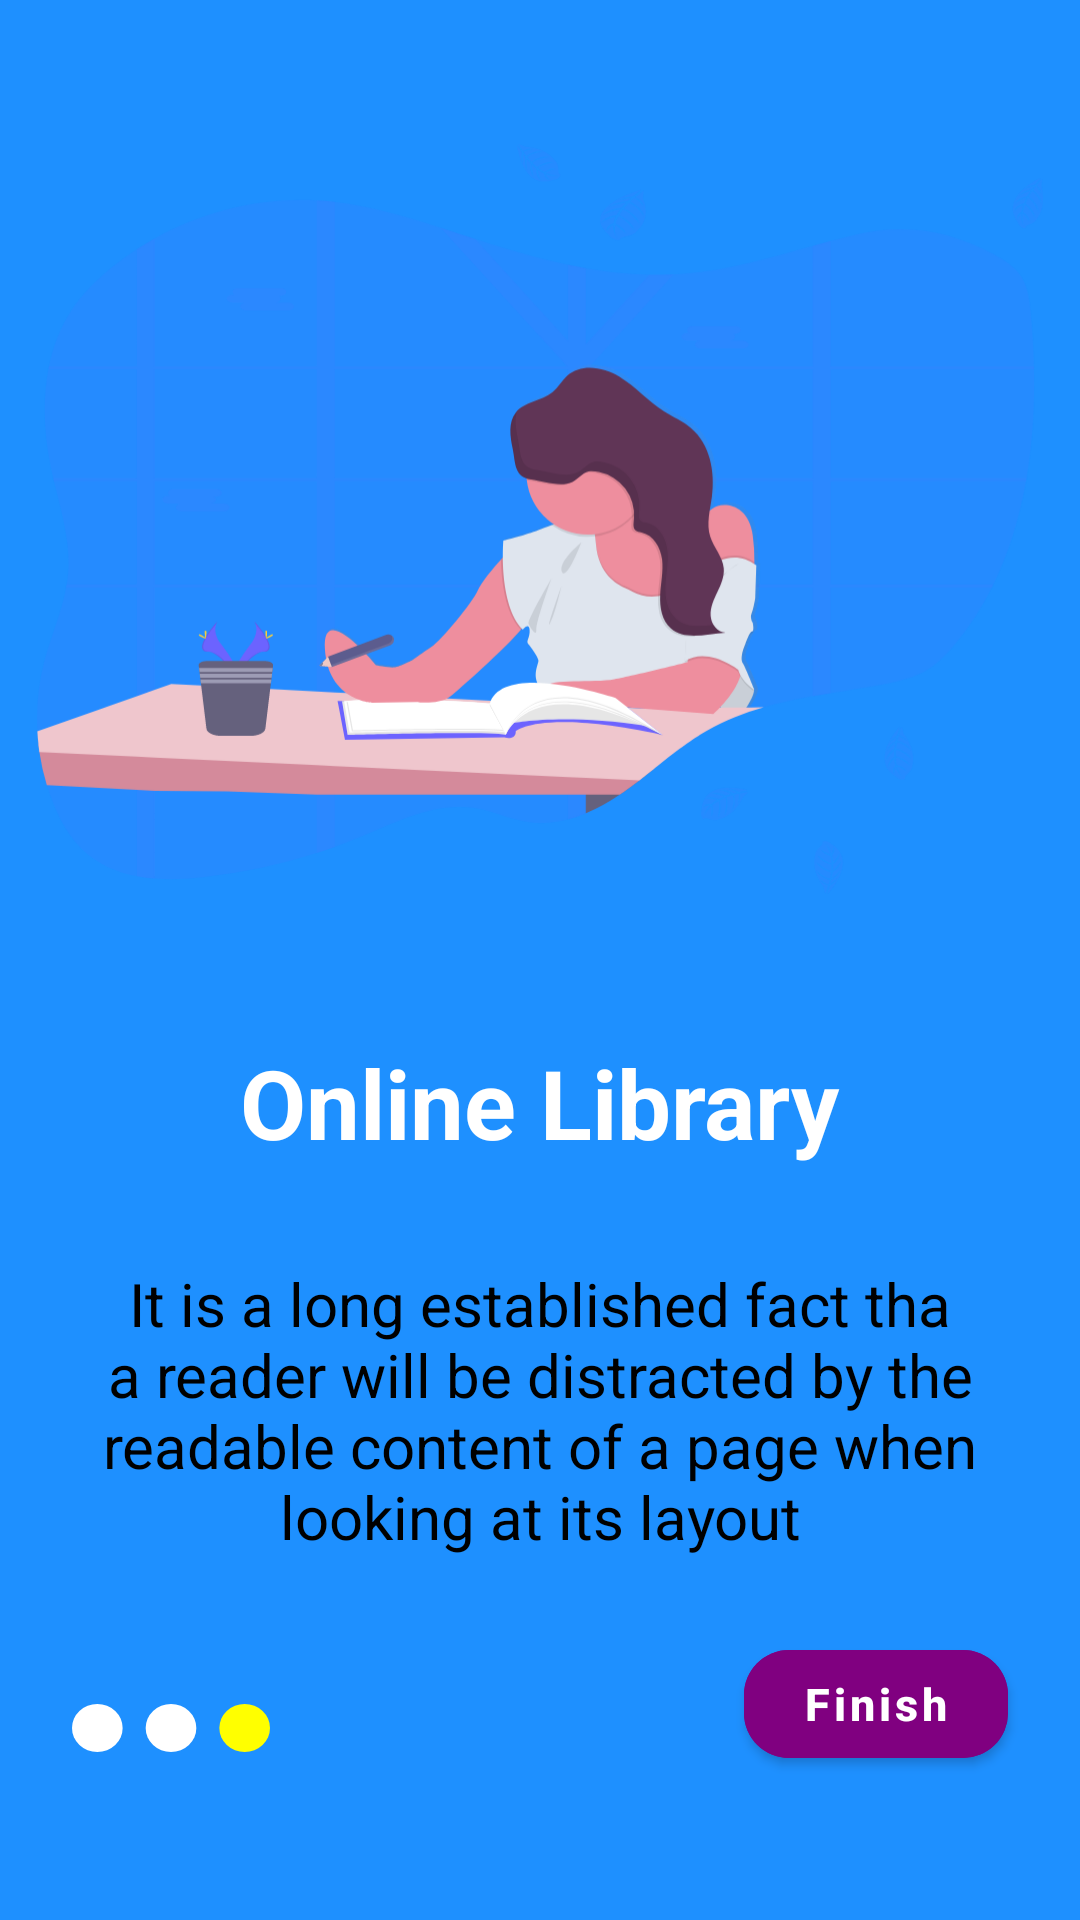

Where icons sit on this 1080 x 1920 app screen, as (x1, y1, x2, y2):
dot: (72, 1704, 270, 1752)
